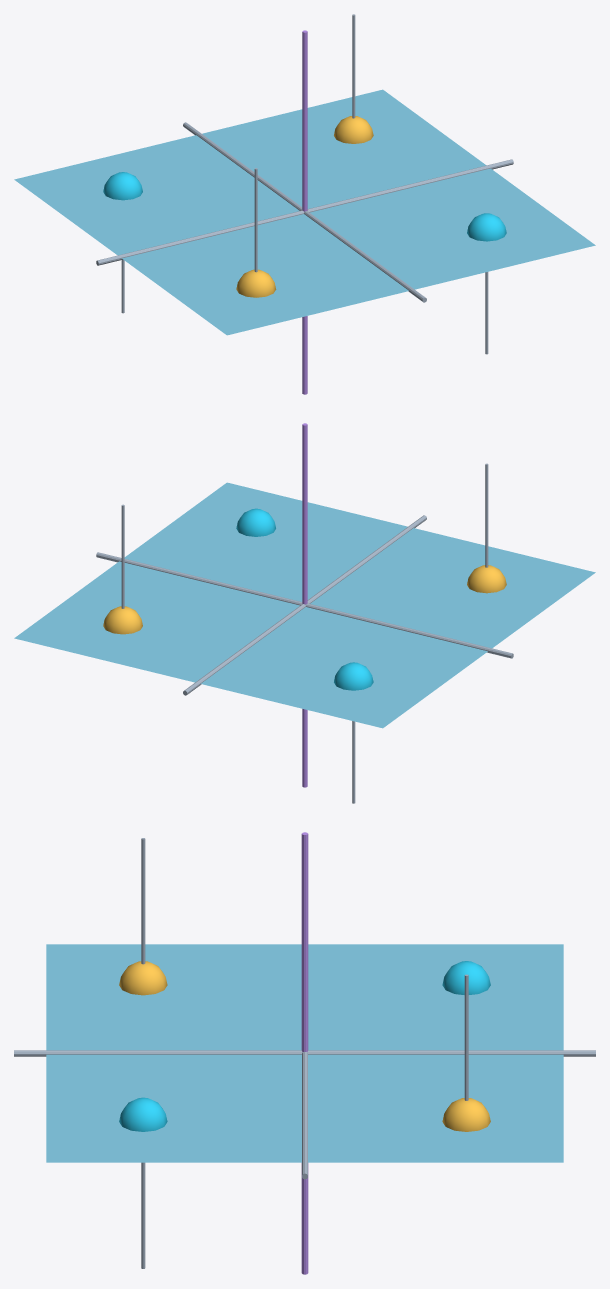
File: svm.glb
3 views of the same model, one above another, from view 1: azimuth 30°, elevation 25°; view 2: azimuth 150°, elevation 25°; view 3: azimuth 270°, elevation 25° (orthographic). The views are drawn at different scales.
Parts seen in each view (by area): view 1: Separating plane, x axis, xy axis, y axis, XOR point.003, XOR point.002, XOR point, XOR point.001; view 2: Separating plane, x axis, xy axis, y axis, XOR point.002, XOR point.003, XOR point, XOR point.001; view 3: Separating plane, y axis, xy axis, XOR point.003, XOR point, XOR point.001, XOR point.002, x axis, Projection 1, Projection 0.
Boxes of the visible parts, x1=… form: Separating plane: x1=14, y1=89, x2=595, y2=335; x axis: x1=96, y1=159, x2=513, y2=265; xy axis: x1=302, y1=30, x2=307, y2=394; y axis: x1=183, y1=122, x2=426, y2=302; XOR point.003: x1=467, y1=213, x2=506, y2=241; XOR point.002: x1=103, y1=172, x2=142, y2=200; XOR point: x1=236, y1=269, x2=276, y2=297; XOR point.001: x1=334, y1=116, x2=373, y2=143; Separating plane: x1=14, y1=482, x2=595, y2=728; x axis: x1=96, y1=552, x2=513, y2=658; xy axis: x1=302, y1=423, x2=307, y2=787; y axis: x1=183, y1=515, x2=426, y2=695; XOR point.002: x1=334, y1=662, x2=373, y2=690; XOR point.003: x1=236, y1=508, x2=275, y2=536; XOR point: x1=467, y1=565, x2=506, y2=593; XOR point.001: x1=103, y1=606, x2=142, y2=634; Separating plane: x1=46, y1=944, x2=563, y2=1162; y axis: x1=14, y1=1050, x2=595, y2=1056; xy axis: x1=301, y1=832, x2=308, y2=1274; XOR point.003: x1=119, y1=1097, x2=167, y2=1131; XOR point: x1=119, y1=961, x2=167, y2=995; XOR point.001: x1=442, y1=1098, x2=490, y2=1131; XOR point.002: x1=442, y1=961, x2=490, y2=994; x axis: x1=302, y1=1052, x2=307, y2=1179; Projection 1: x1=464, y1=974, x2=468, y2=1100; Projection 0: x1=141, y1=838, x2=145, y2=964.
Bounding box in the file's own units: 3.6 × 3 × 3.6.
